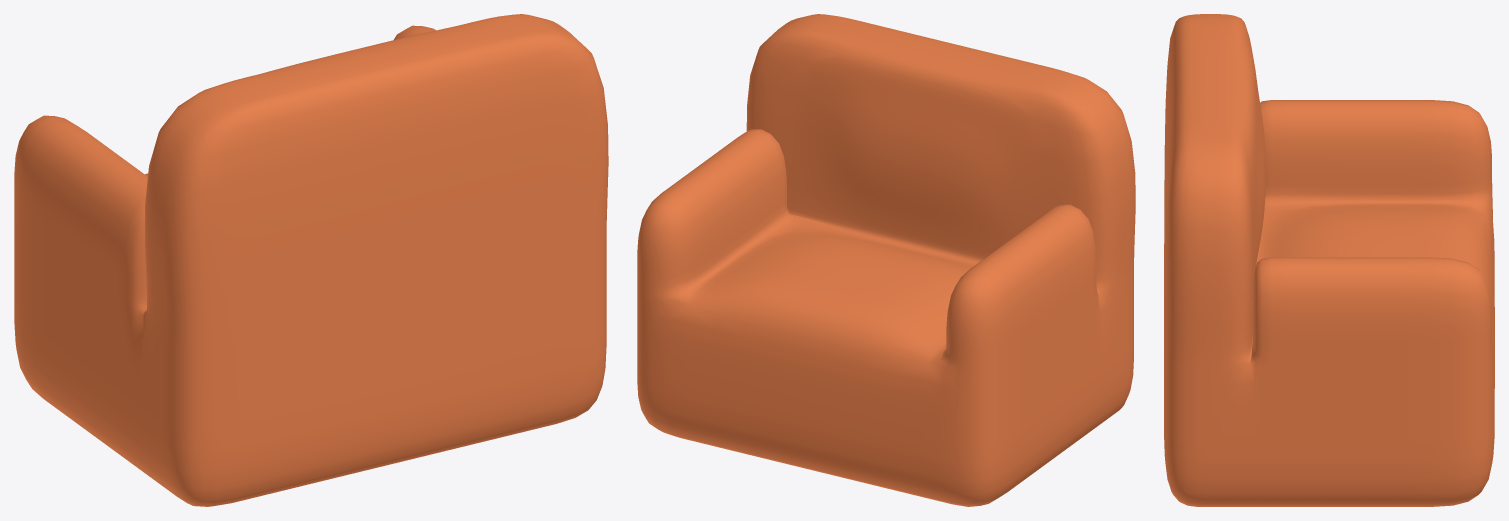
Rendered from couchsmF.fbx.
3 views of the same model, side by side, from view 1: azimuth 30°, elevation 25°; view 2: azimuth 150°, elevation 25°; view 3: azimuth 270°, elevation 25° (orthographic). The views are drawn at different scales.
Visible parts, largest first — view 1: Cube; view 2: Cube; view 3: Cube.
Part boxes in pixels (left/top/right/bottom): Cube: left=14, top=14, right=608, bottom=506; Cube: left=637, top=14, right=1135, bottom=506; Cube: left=1164, top=14, right=1494, bottom=506.
Size of the model in its own units: 507 by 441 by 380.
